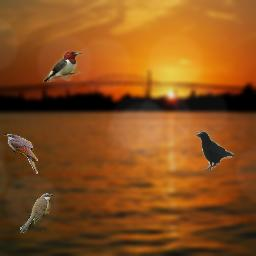Crow: (195, 130, 234, 170)
Cuckoo: (4, 134, 38, 174), (20, 193, 53, 233)
Woodpecker: (43, 51, 83, 82)
